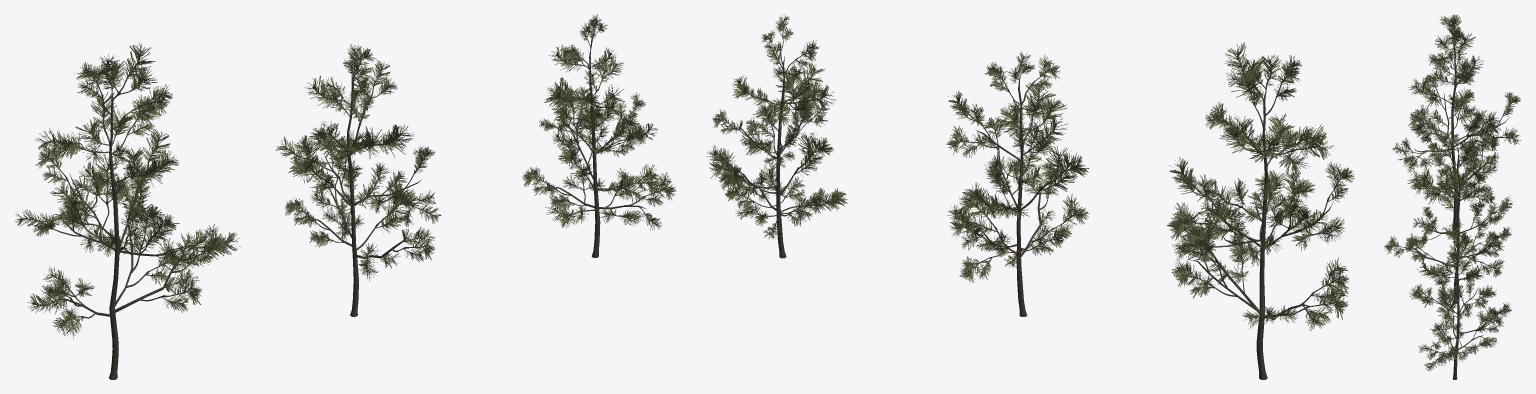
The model's file is pine_sapling_small_1k.gltf.
3 renders of one model, left to right at view 1: azimuth 30°, elevation 25°; view 2: azimuth 150°, elevation 25°; view 3: azimuth 270°, elevation 25°, orthographic. The views are drawn at different scales.
Parts seen in each view (by area): view 1: pine_sapling_small_a, pine_sapling_small_b, pine_sapling_small_c; view 2: pine_sapling_small_a, pine_sapling_small_b, pine_sapling_small_c; view 3: pine_sapling_small_a, pine_sapling_small_b, pine_sapling_small_c.
Part boxes in pixels (bbox=[...]): pine_sapling_small_a: bbox=[15, 43, 241, 379]; pine_sapling_small_b: bbox=[276, 44, 441, 316]; pine_sapling_small_c: bbox=[522, 14, 676, 257]; pine_sapling_small_a: bbox=[1167, 42, 1354, 379]; pine_sapling_small_b: bbox=[946, 51, 1088, 316]; pine_sapling_small_c: bbox=[707, 14, 847, 258]; pine_sapling_small_a: bbox=[1391, 14, 1520, 229]; pine_sapling_small_b: bbox=[1384, 133, 1512, 304]; pine_sapling_small_c: bbox=[1409, 222, 1512, 379].
Size of the model in its own units: 2.64 by 1.3 by 0.7703.
Materials: 2 (2 with a texture image).
